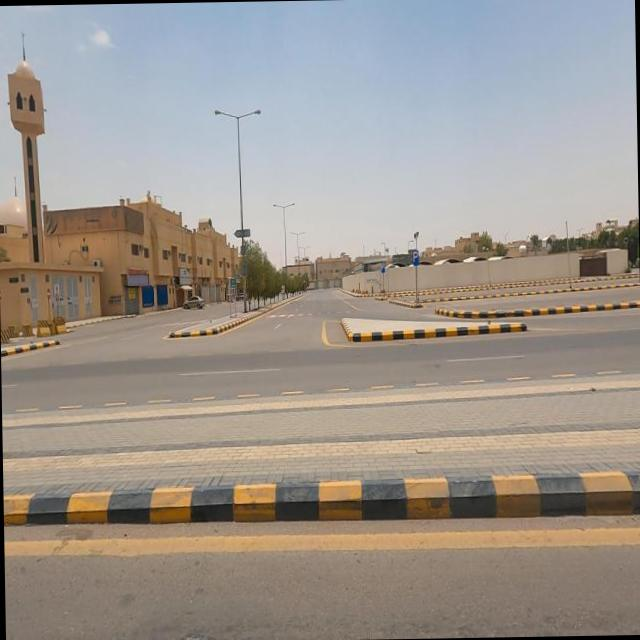debris: (108, 258, 172, 304)
